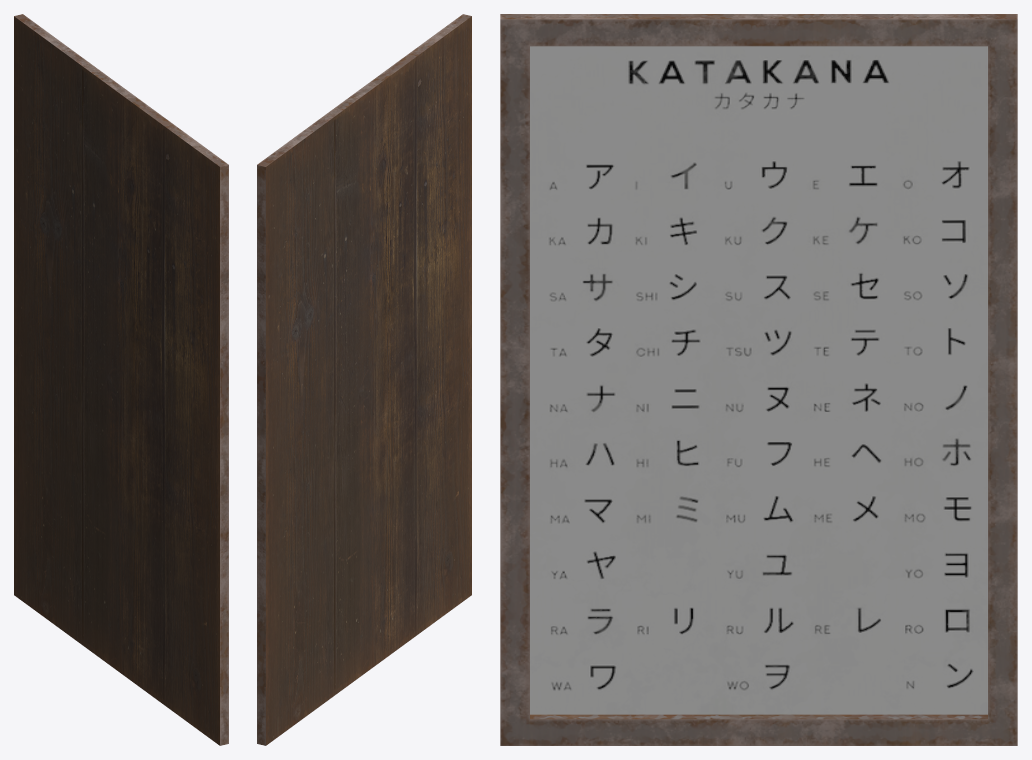
File: katakana_alphabet_poster.glb
3 views of the same model, side by side, from view 1: azimuth 30°, elevation 25°; view 2: azimuth 150°, elevation 25°; view 3: azimuth 270°, elevation 25° (orthographic). The views are drawn at different scales.
Parts seen in each view (by area): view 1: SM_poster_1_2; view 2: SM_poster_1_2; view 3: SM_poster_1_2.
Part boxes in pixels (x1,y1,x2,y2): SM_poster_1_2: (14,14,228,745); SM_poster_1_2: (257,14,471,745); SM_poster_1_2: (500,14,1017,745).
Size of the model in its own units: 0.022 by 1.37 by 0.8806.
Materials: 1 (1 with a texture image).
